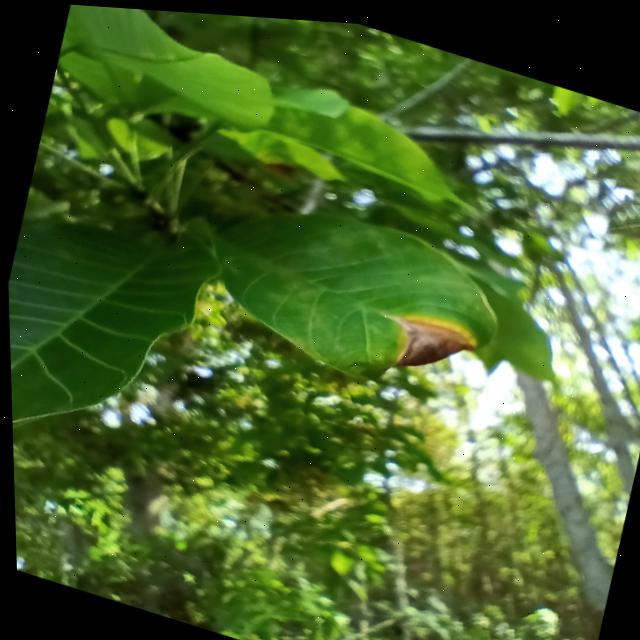Leaf-Blight: (373, 301, 477, 384)
